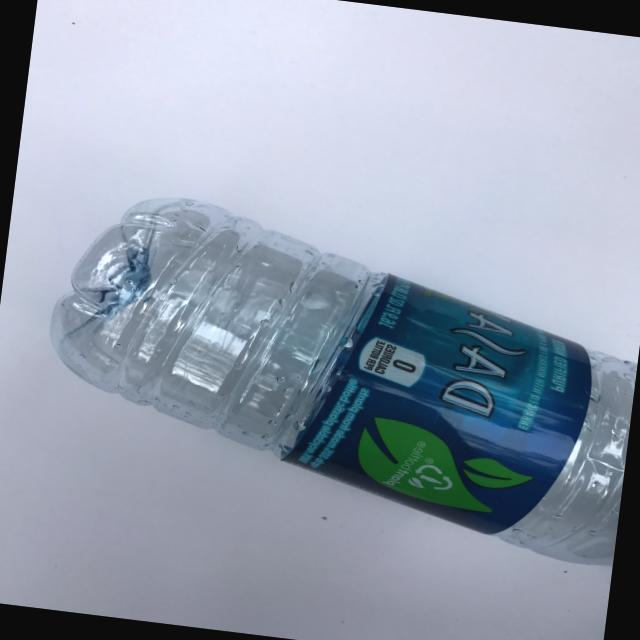Plastic: (15, 178, 640, 594)
